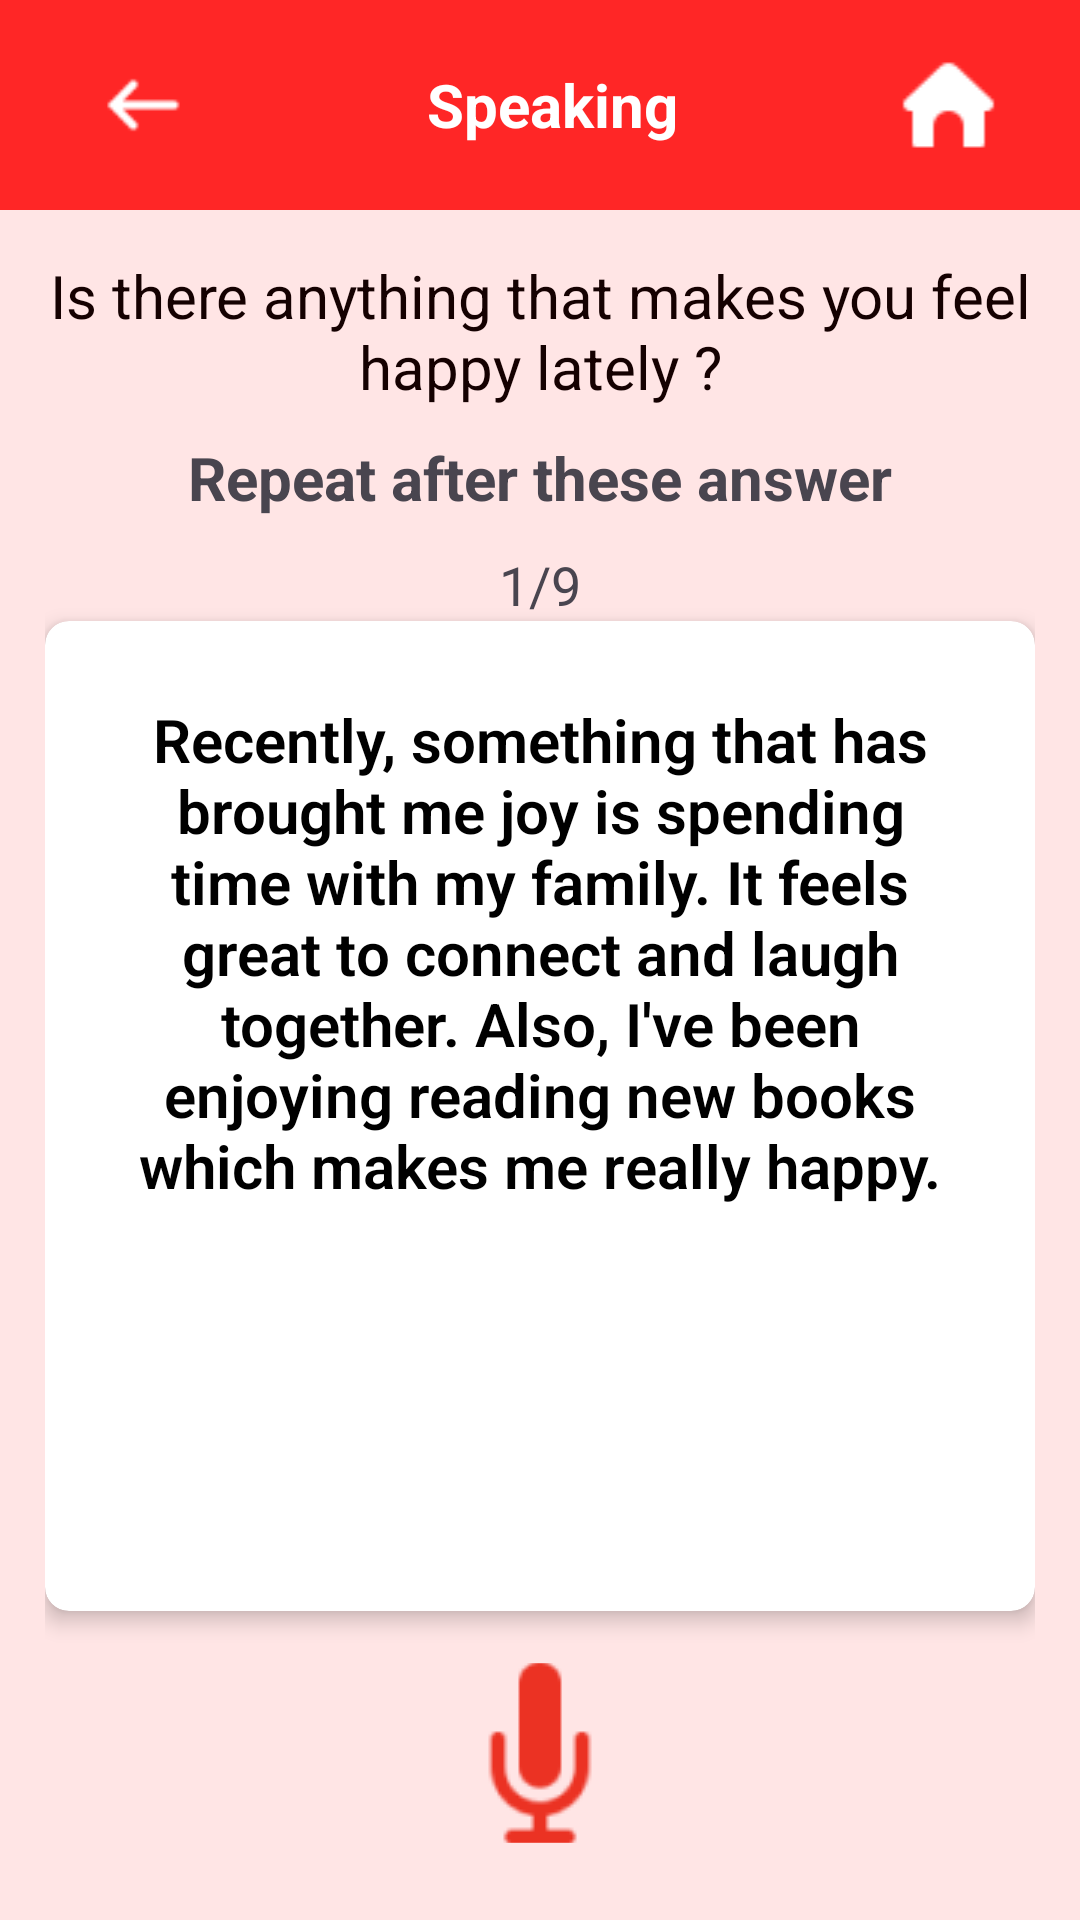

Icon click points for this 1080 × 1920 phone screenshot, format point (x, y):
backward: point (143, 105)
Ghi âm: point (540, 1753)
home: point (948, 105)
